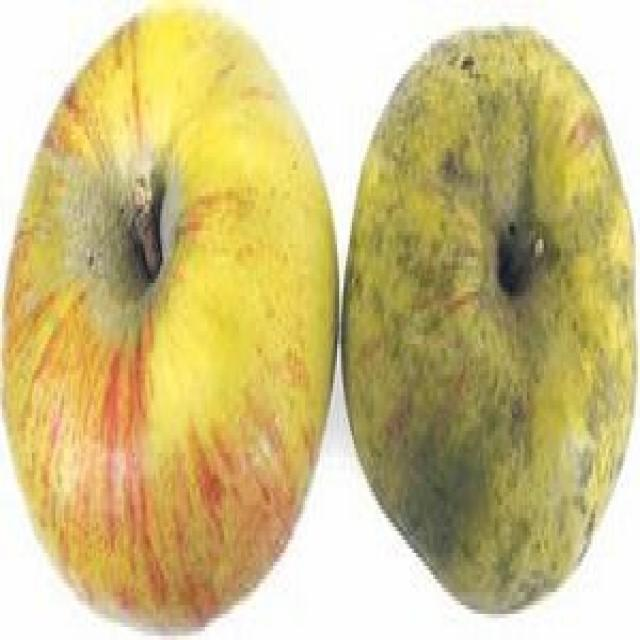fresh_apple: (0, 4, 341, 639)
rotten_apple: (343, 22, 636, 610)
